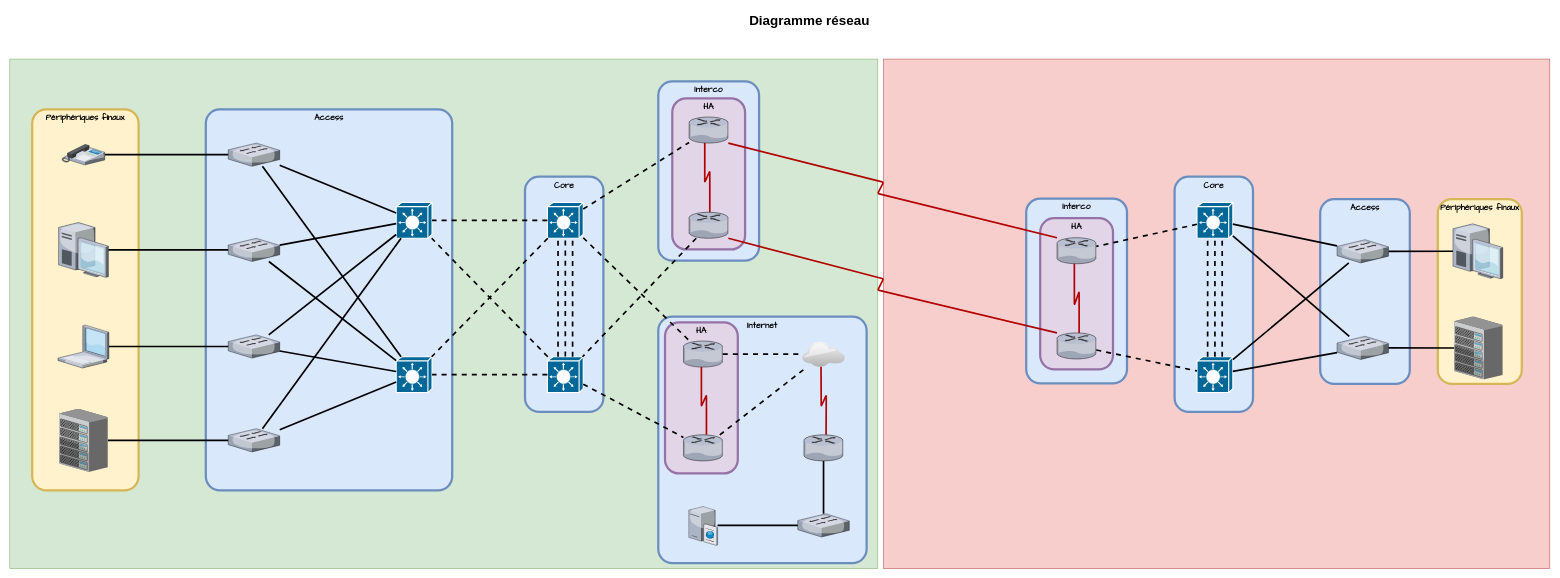
The diagram is 1560 pixels wide and 578 high, and some of its shapes have lost their labels. The box of each missing label's shape, as (x1, y1, x2, y2) in pixels:
PARIS: (9, 59, 878, 569)
PONTOISE: (883, 59, 1550, 569)
Serveur Web: (688, 505, 717, 545)
